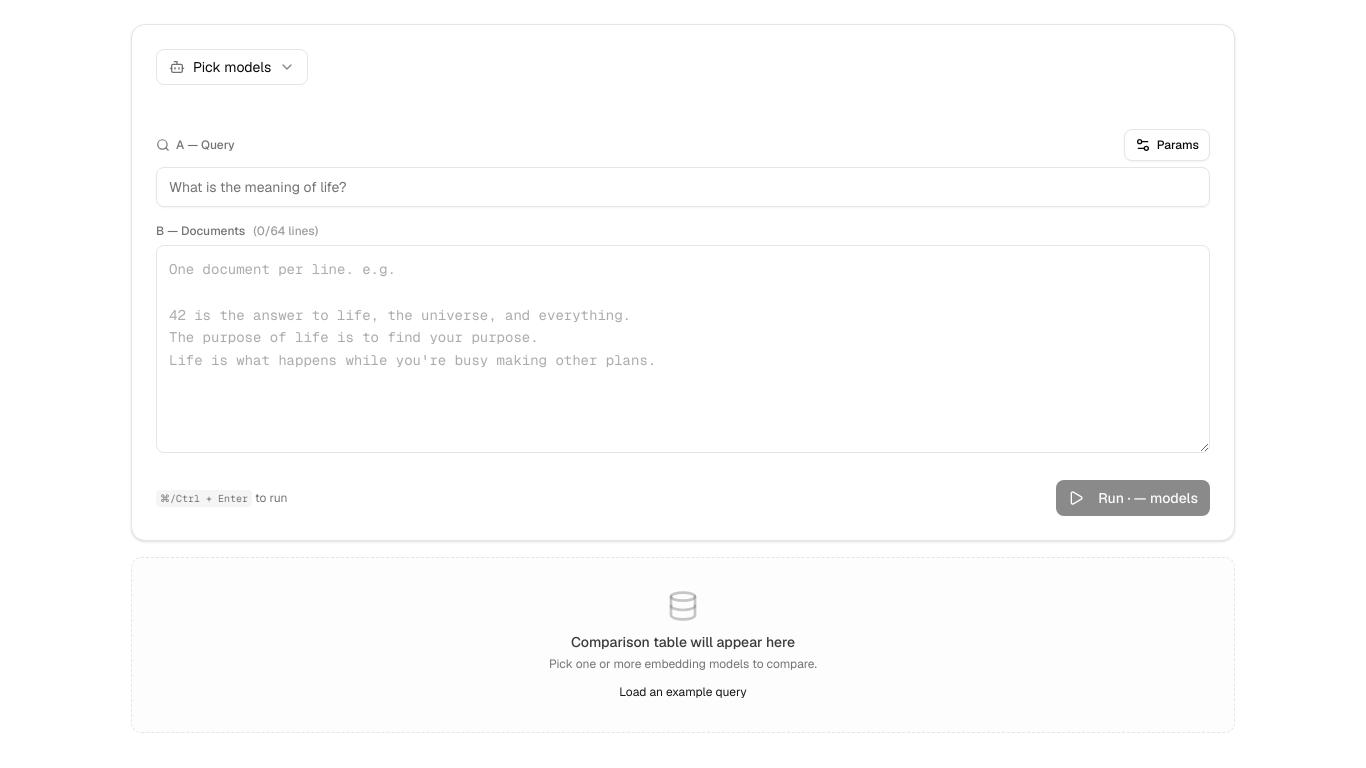
Test: EmbeddingPlayground — empty state › 'Load an example query' seeds the query and documents
Click the button "Load an example query" at [683, 692], box 619,684 -> 747,700
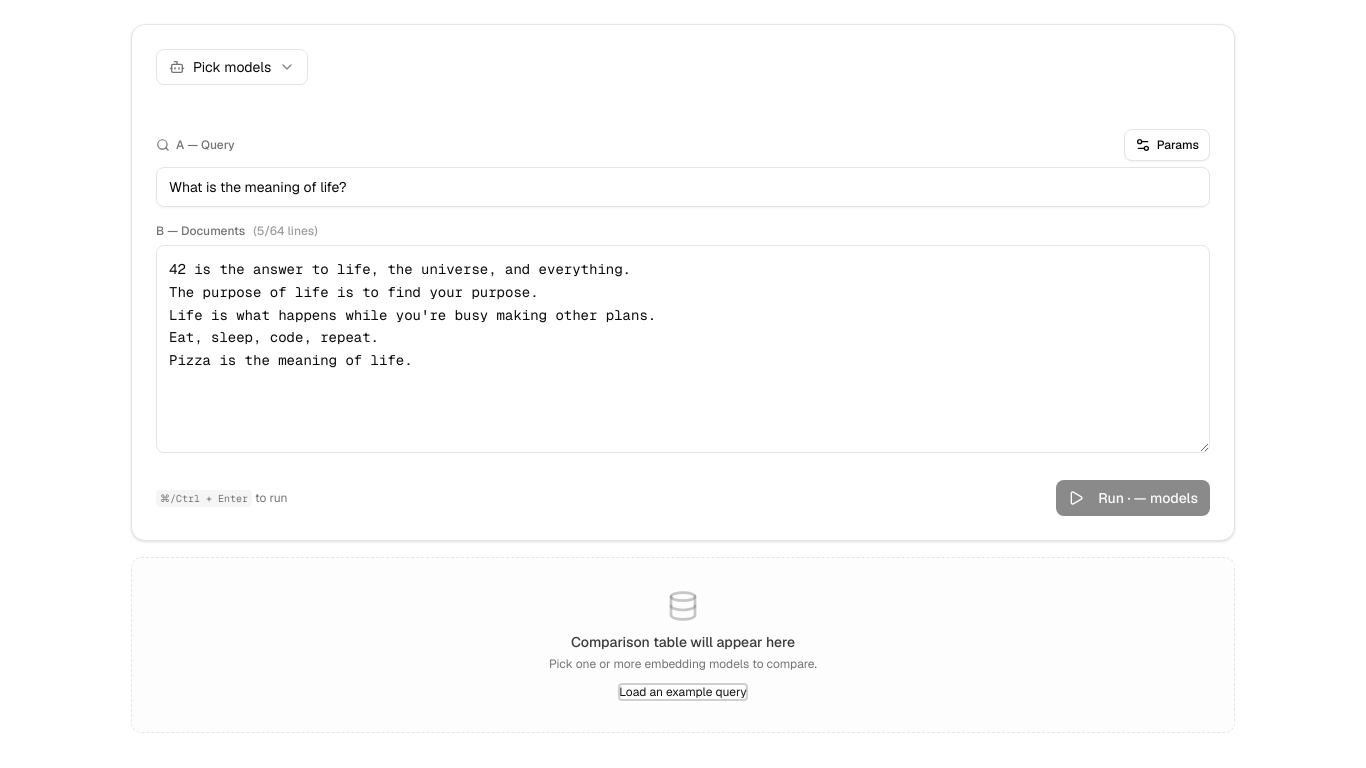
Expected: the field showing "What is the meaning of life?" is shown, 156,167 -> 1210,207
Now the text "(5/64 lines)" is shown, box 253,223 -> 318,239
